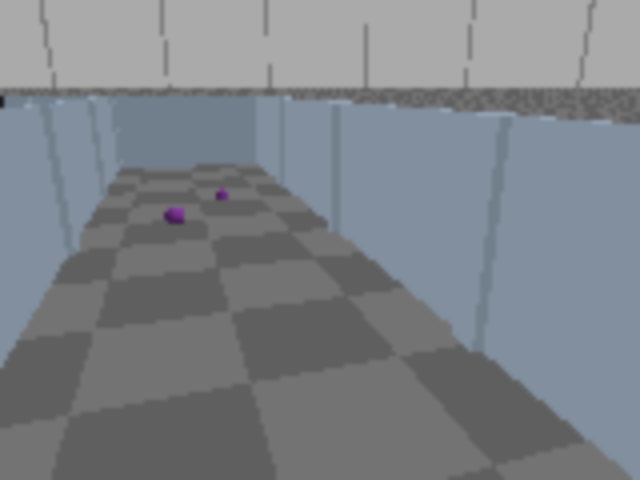puck: (161, 204, 189, 228)
